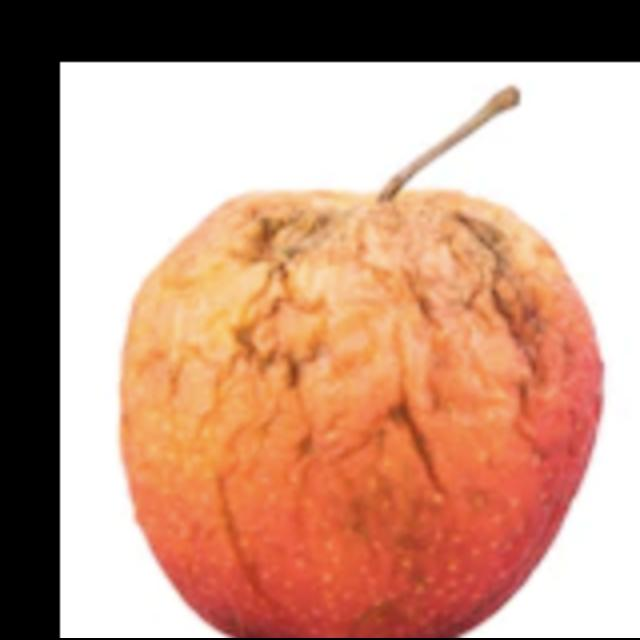Apel Tidak Segar: (120, 184, 600, 638)
